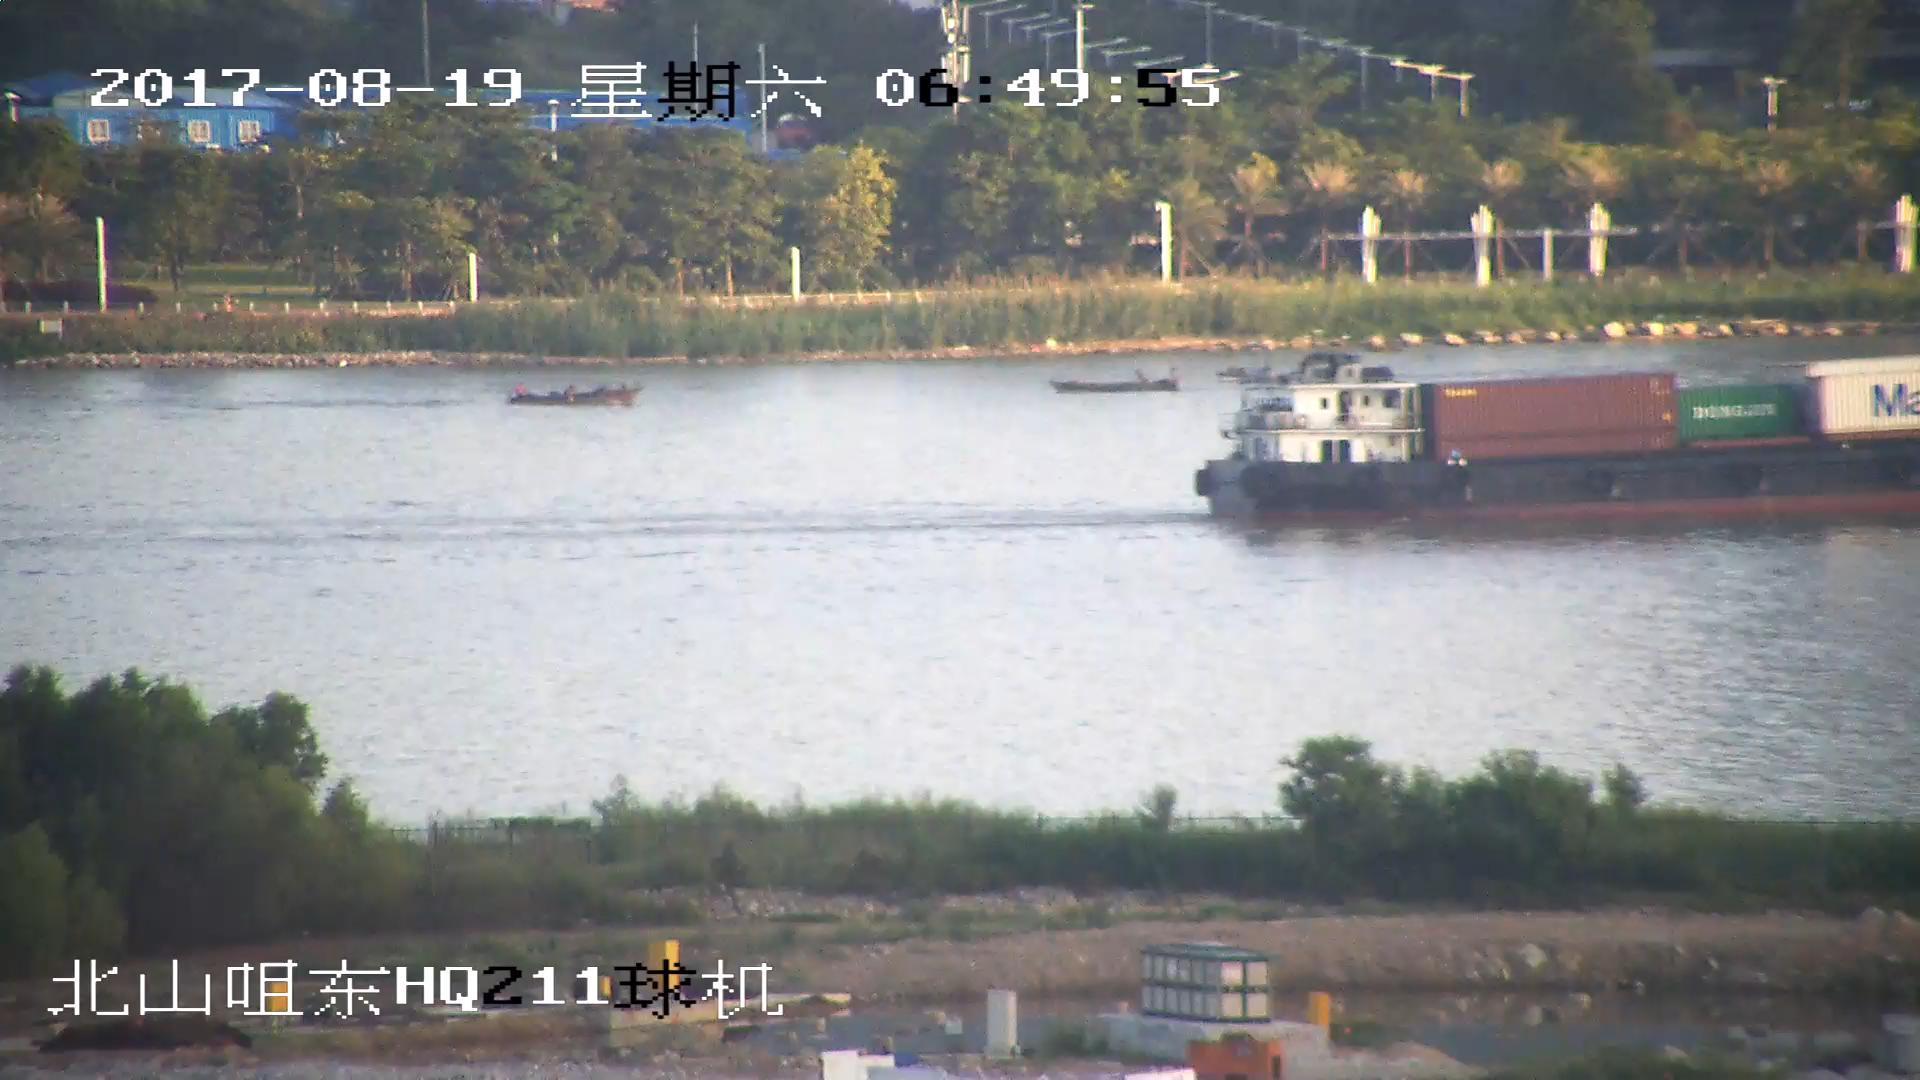Ship: (1193, 361, 1920, 533), (508, 378, 644, 410), (1054, 371, 1183, 398)
